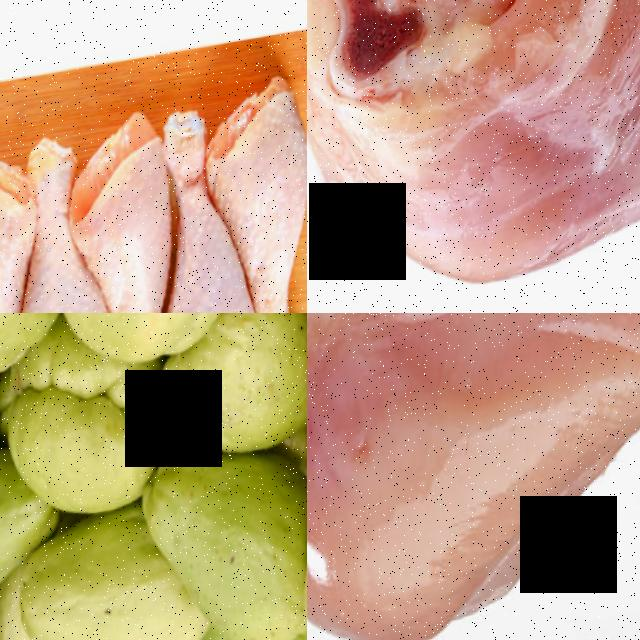chayote: (1, 351, 170, 522), (175, 469, 307, 640), (15, 538, 166, 640), (37, 313, 265, 373)
chicken breast: (307, 313, 640, 640)
chicken thigh: (307, 0, 640, 313), (53, 123, 212, 313), (140, 112, 270, 313), (201, 81, 307, 313), (0, 137, 122, 313), (0, 149, 59, 313)
